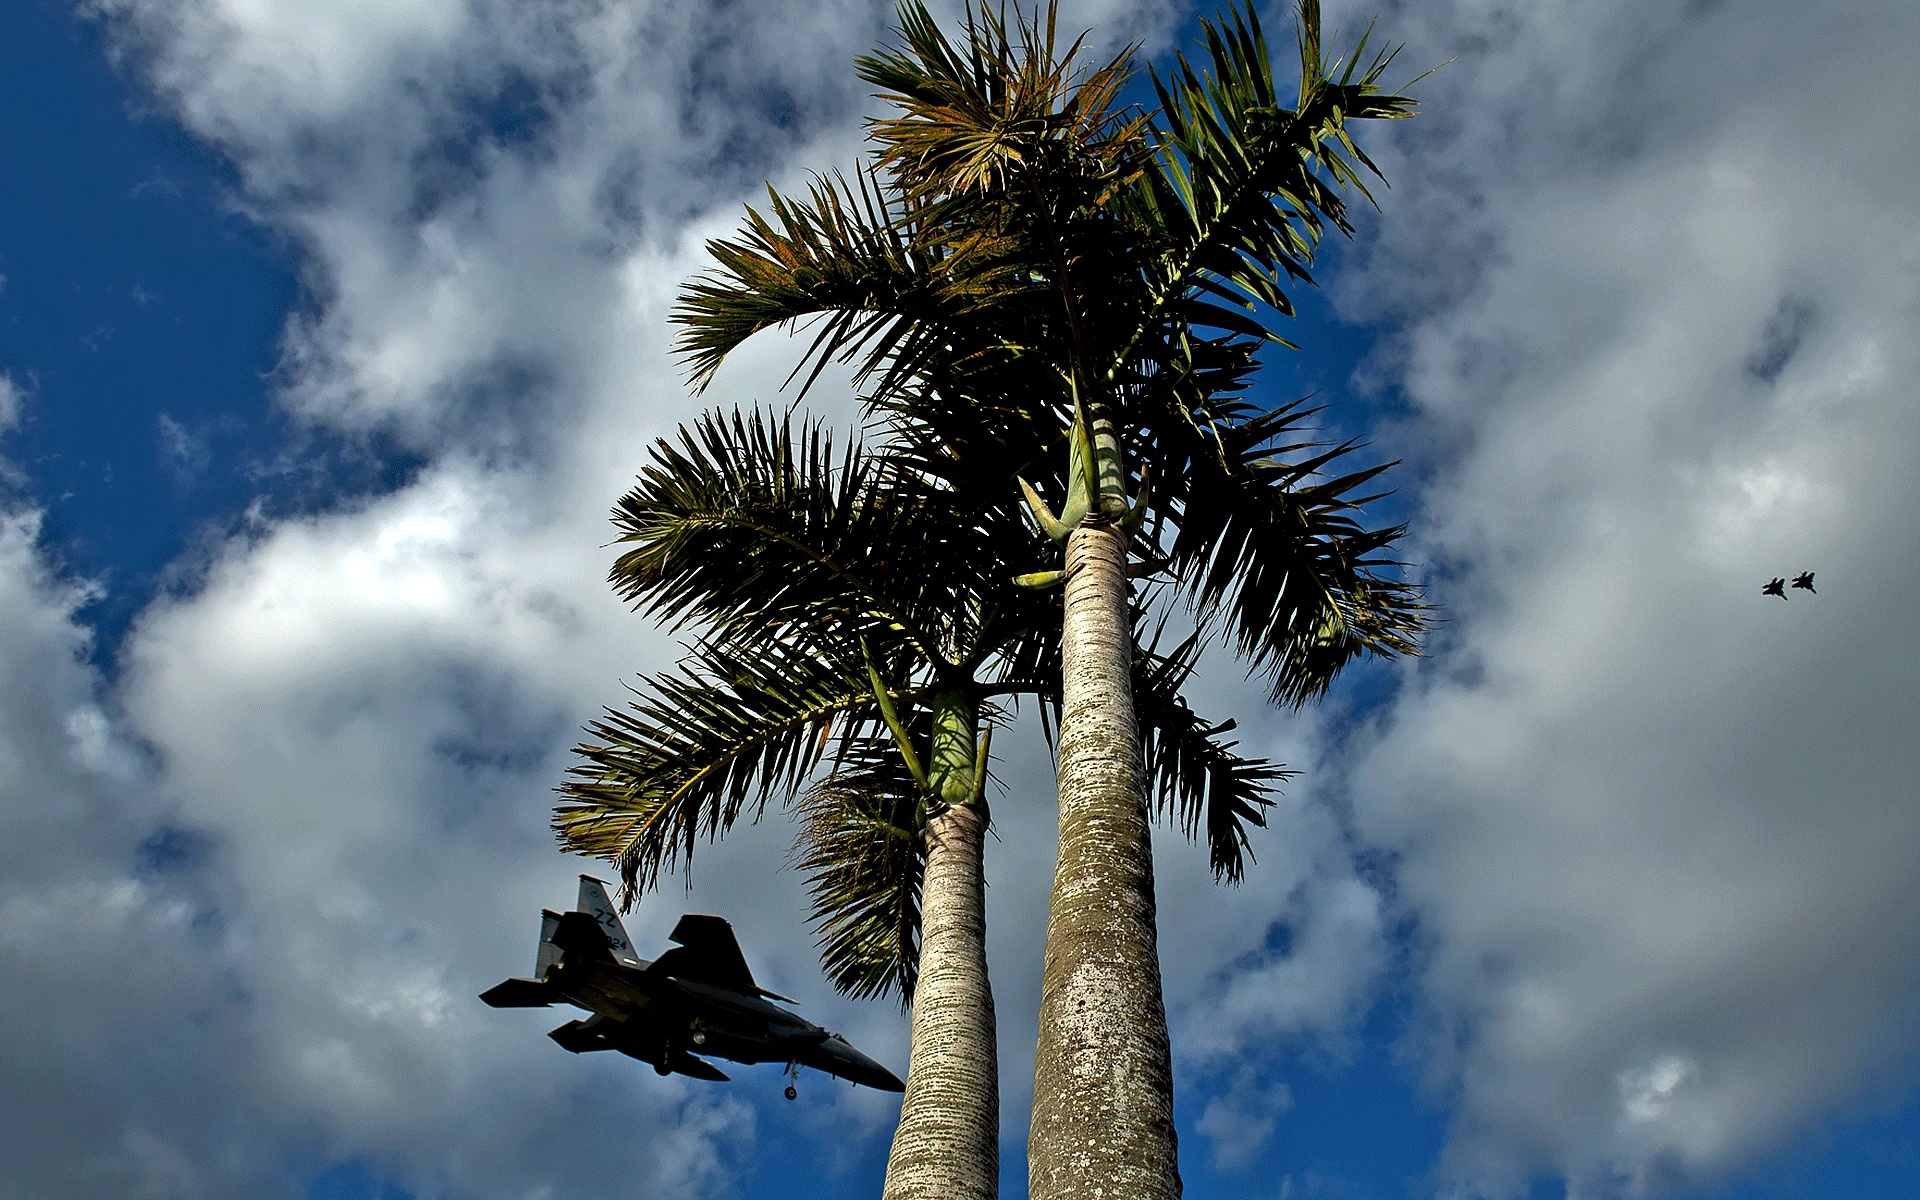airplane: (477, 872, 907, 1100), (1761, 576, 1789, 601), (1791, 570, 1816, 594)
